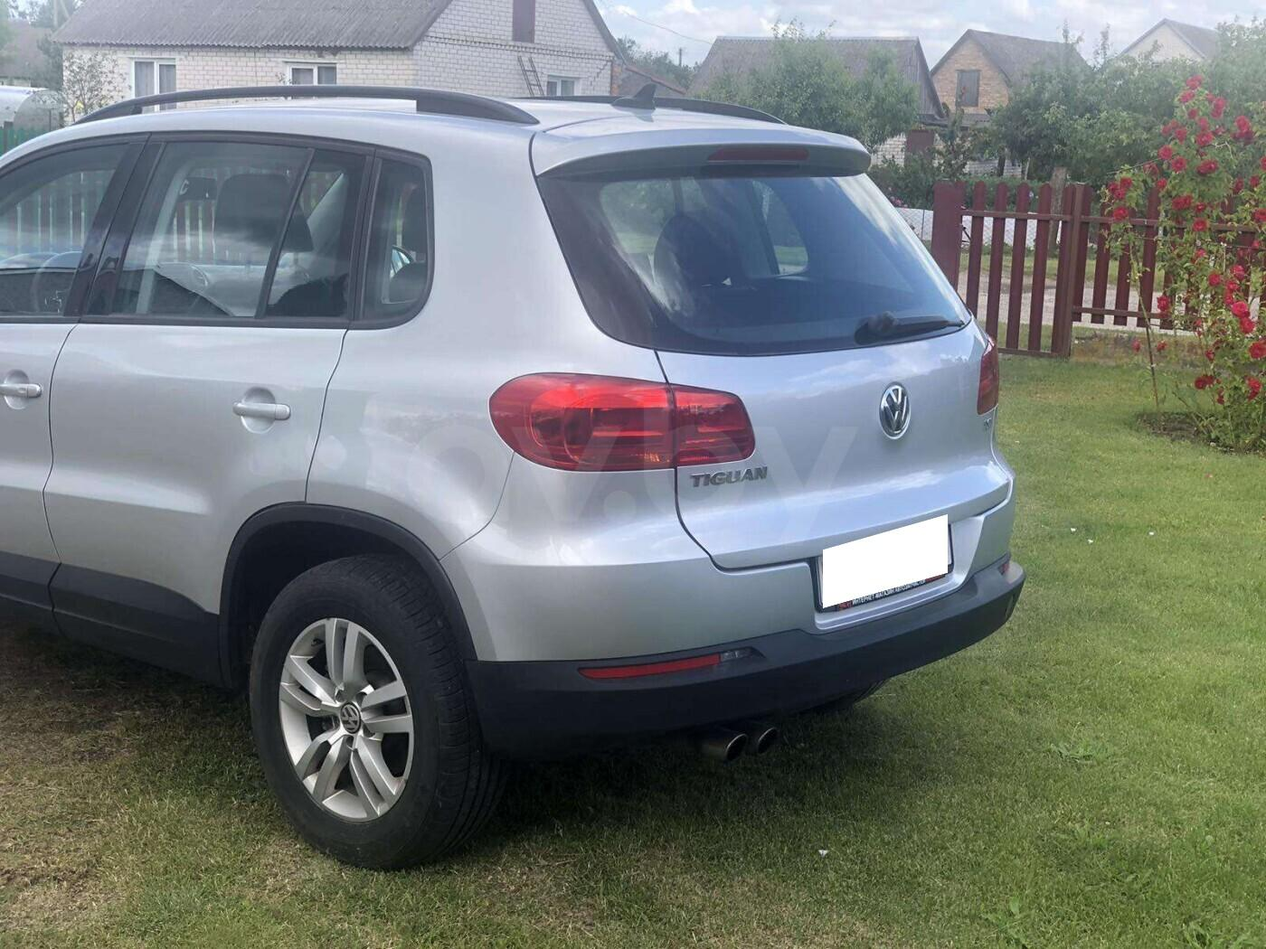Tiguan_2011-2018: (0, 91, 1035, 867)
